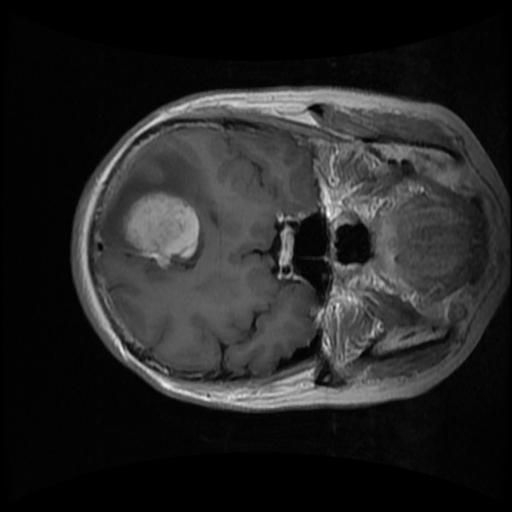meningioma: (121, 190, 200, 268)
